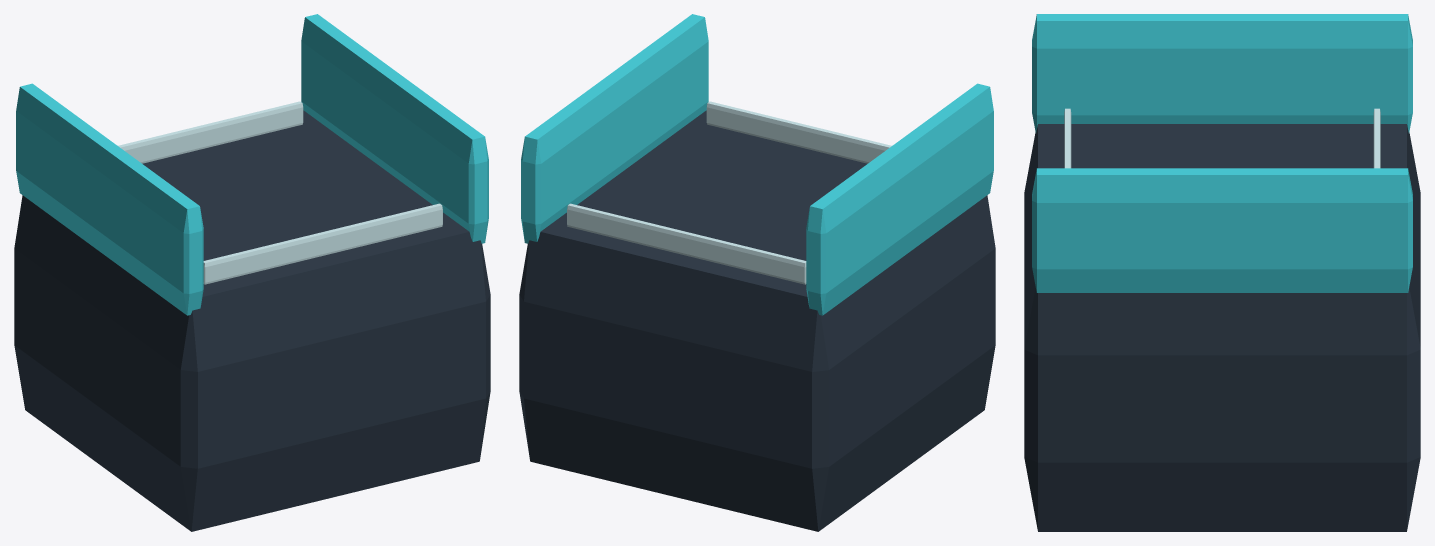
File: TrackTile.fbx
3 views of the same model, side by side, from view 1: azimuth 30°, elevation 25°; view 2: azimuth 150°, elevation 25°; view 3: azimuth 270°, elevation 25° (orthographic). The views are drawn at different scales.
Parts seen in each view (by area): view 1: Deck, EdgeRail, EdgeRail.001, CrossSeam, CrossSeam.001; view 2: Deck, EdgeRail, EdgeRail.001, CrossSeam.001, CrossSeam; view 3: Deck, EdgeRail.001, EdgeRail, CrossSeam, CrossSeam.001.
Boxes of the visible parts, x1,y1,x2,y2 form: Deck: [14, 110, 490, 531]; EdgeRail: [16, 83, 203, 315]; EdgeRail.001: [301, 14, 488, 243]; CrossSeam: [203, 203, 442, 284]; CrossSeam.001: [118, 101, 303, 163]; Deck: [519, 110, 995, 531]; EdgeRail: [806, 83, 993, 315]; EdgeRail.001: [521, 14, 708, 243]; CrossSeam.001: [567, 203, 806, 284]; CrossSeam: [706, 101, 891, 163]; Deck: [1024, 124, 1420, 531]; EdgeRail.001: [1032, 168, 1412, 292]; EdgeRail: [1032, 14, 1412, 132]; CrossSeam: [1064, 108, 1071, 168]; CrossSeam.001: [1373, 108, 1380, 168].
Bounding box in the file's own units: 1 × 1 × 1.
